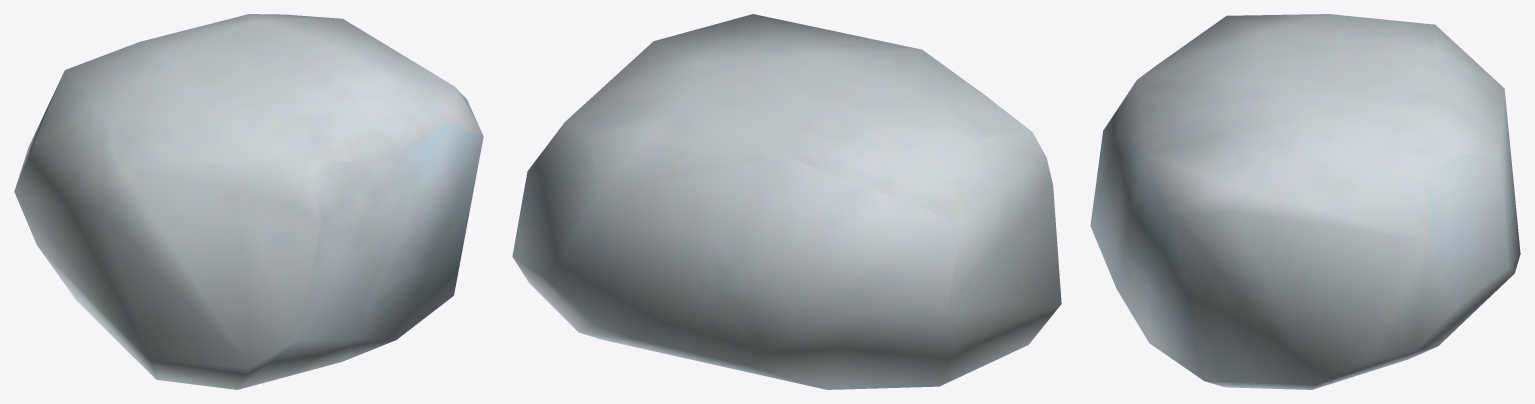
File: P_RockClassic5.obj
3 renders of one model, left to right at view 1: azimuth 30°, elevation 25°; view 2: azimuth 150°, elevation 25°; view 3: azimuth 270°, elevation 25°, orthographic. The views are drawn at different scales.
Bounding box in the file's own units: 1.84 × 1.16 × 1.77.
